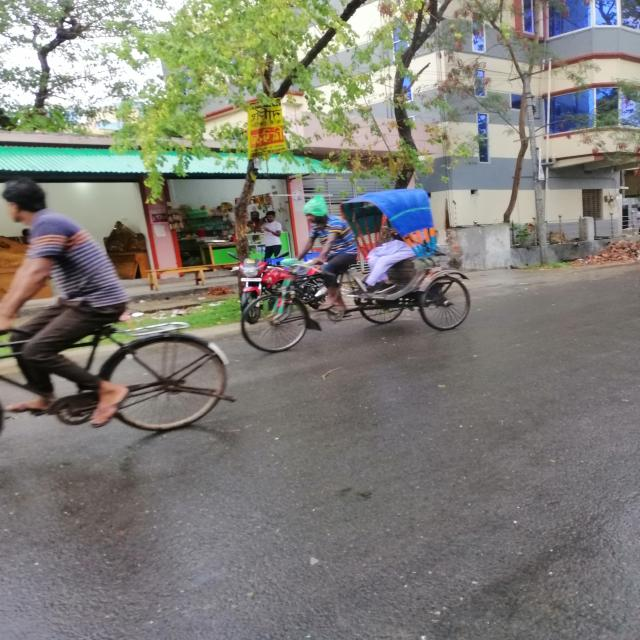Bicycle: (1, 305, 228, 452)
Rickshaw: (239, 180, 472, 360)
